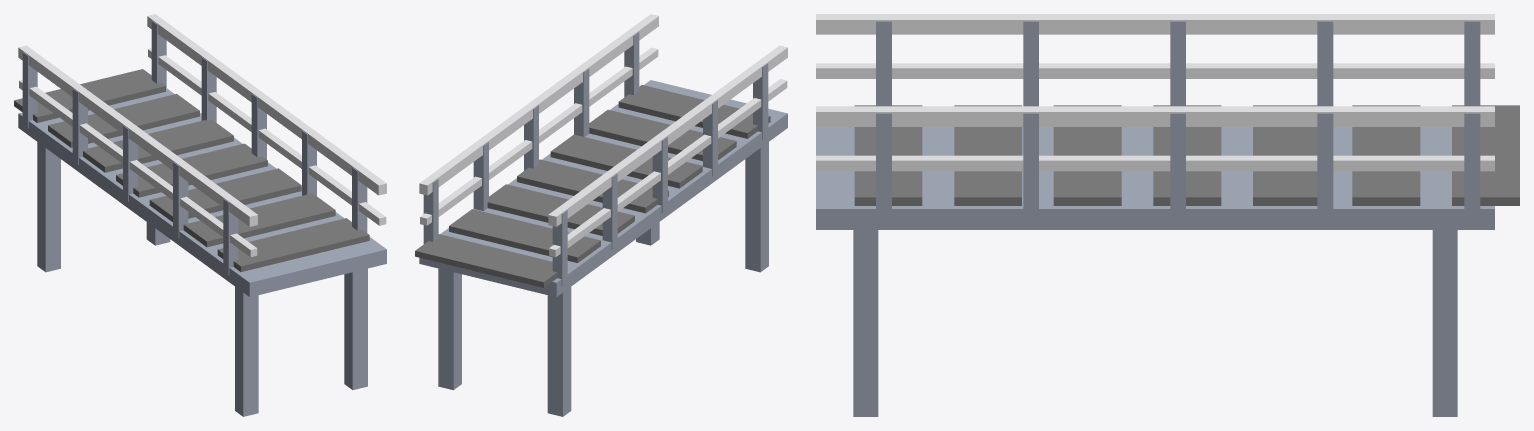
The model's file is bridge.glb.
The picture shows the model from 3 angles, left to right: view 1: azimuth 30°, elevation 25°; view 2: azimuth 150°, elevation 25°; view 3: azimuth 270°, elevation 25°; orthographic projection. The views are drawn at different scales.
Parts seen in each view (by area): view 1: bridge; view 2: bridge; view 3: bridge.
Part boxes in pixels (x1,y1,x2,y2): bridge: (14,14,386,416); bridge: (415,14,787,416); bridge: (816,14,1519,416).
Size of the model in its own units: 1 by 1.45 by 3.
